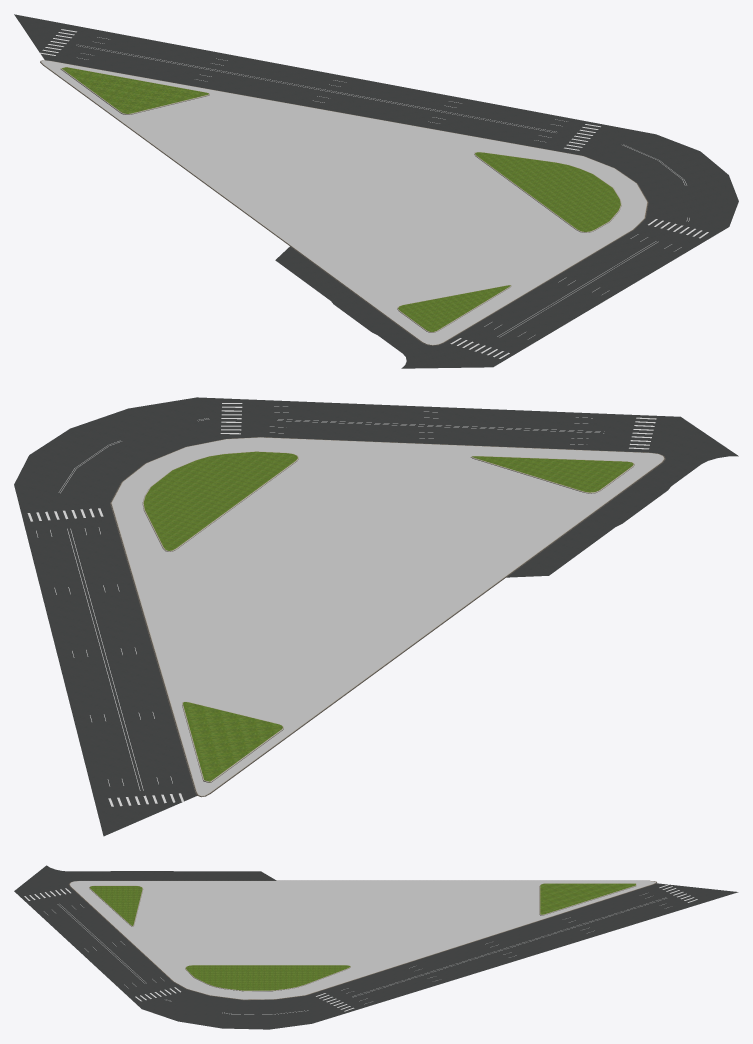
The model's file is New_Terrain_Area_13.fbx.
3 renders of one model, top to bottom at view 1: azimuth 30°, elevation 25°; view 2: azimuth 150°, elevation 25°; view 3: azimuth 270°, elevation 25°, orthographic. The views are drawn at different scales.
Visible parts, largest first — view 1: Area_13, Road_27, Road_Alpha_71, Road_Alpha_69; view 2: Area_13, Road_27, Road_Alpha_71, Road_Alpha_69; view 3: Area_13, Road_27, Road_Alpha_71, Road_Alpha_69.
Part boxes in pixels (x1,y1,x2,y2): Area_13: (40,60,648,345); Road_27: (14,14,738,368); Road_Alpha_71: (40,29,600,150); Road_Alpha_69: (450,219,708,358); Area_13: (110,437,665,797); Road_27: (14,397,738,836); Road_Alpha_71: (27,508,184,806); Road_Alpha_69: (220,403,656,449); Area_13: (68,880,656,1000); Road_27: (14,865,738,1029); Road_Alpha_71: (316,884,697,1011); Road_Alpha_69: (24,888,180,1001).
Bounding box in the file's own units: 12344 × 27.26 × 23022.
